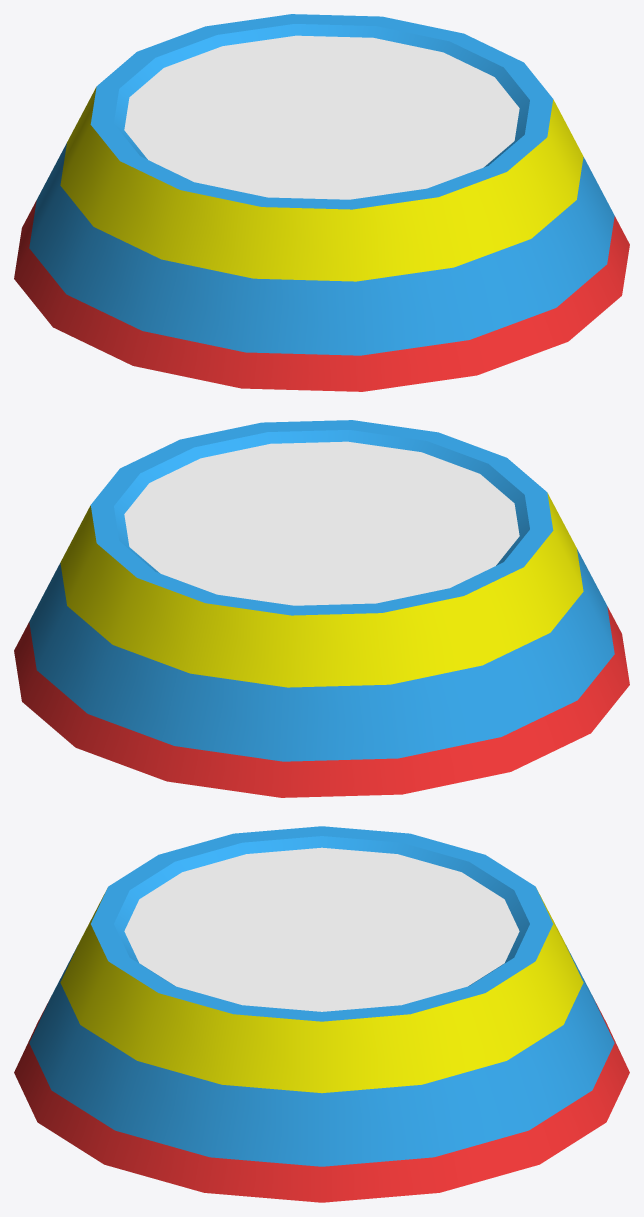
File: trampolim.fbx
3 views of the same model, one above another, from view 1: azimuth 30°, elevation 25°; view 2: azimuth 150°, elevation 25°; view 3: azimuth 270°, elevation 25° (orthographic).
Visible parts, largest first — view 1: Cylinder; view 2: Cylinder; view 3: Cylinder.
Boxes of the visible parts, <box> form: Cylinder: <box>14,14,629,391</box>; Cylinder: <box>14,420,629,797</box>; Cylinder: <box>14,826,629,1202</box>.
Size of the model in its own units: 751 by 200 by 751.
